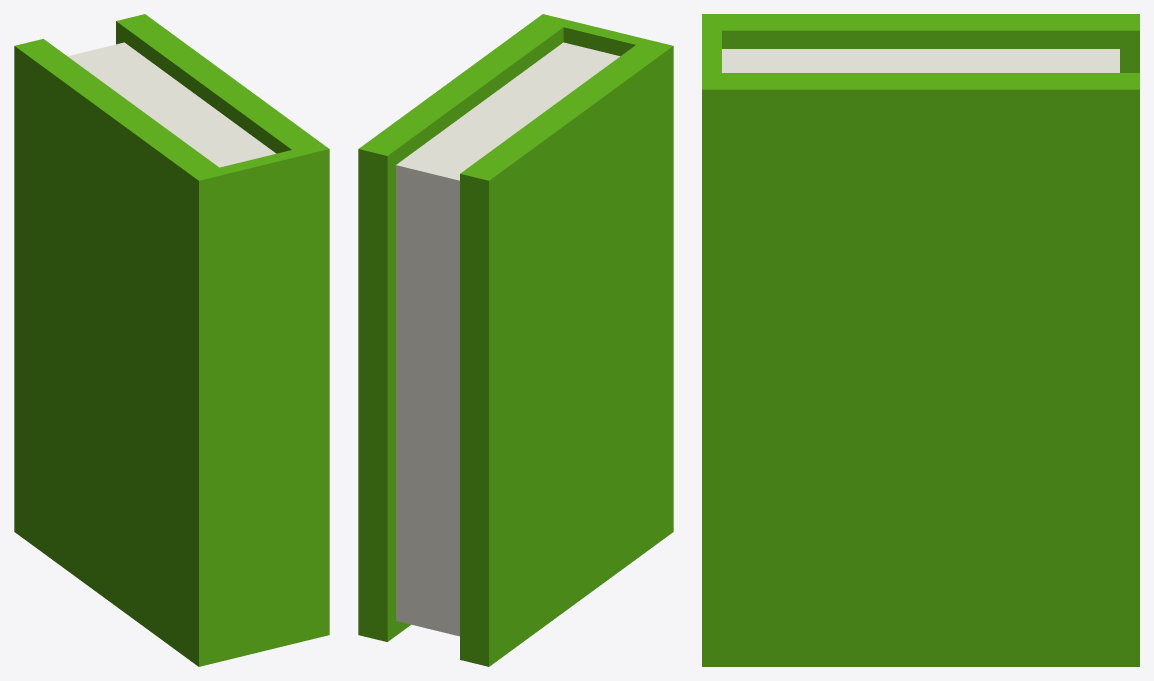
Rendered from Book_Green_Normal.fbx.
3 views of the same model, side by side, from view 1: azimuth 30°, elevation 25°; view 2: azimuth 150°, elevation 25°; view 3: azimuth 270°, elevation 25° (orthographic). The views are drawn at different scales.
Visible parts, largest first — view 1: pCube7; view 2: pCube7; view 3: pCube7.
Boxes of the visible parts, x1,y1,x2,y2 form: pCube7: (14, 14, 329, 666); pCube7: (358, 14, 673, 666); pCube7: (702, 14, 1139, 666).
Bounding box in the file's own units: 9 × 32 × 22.
